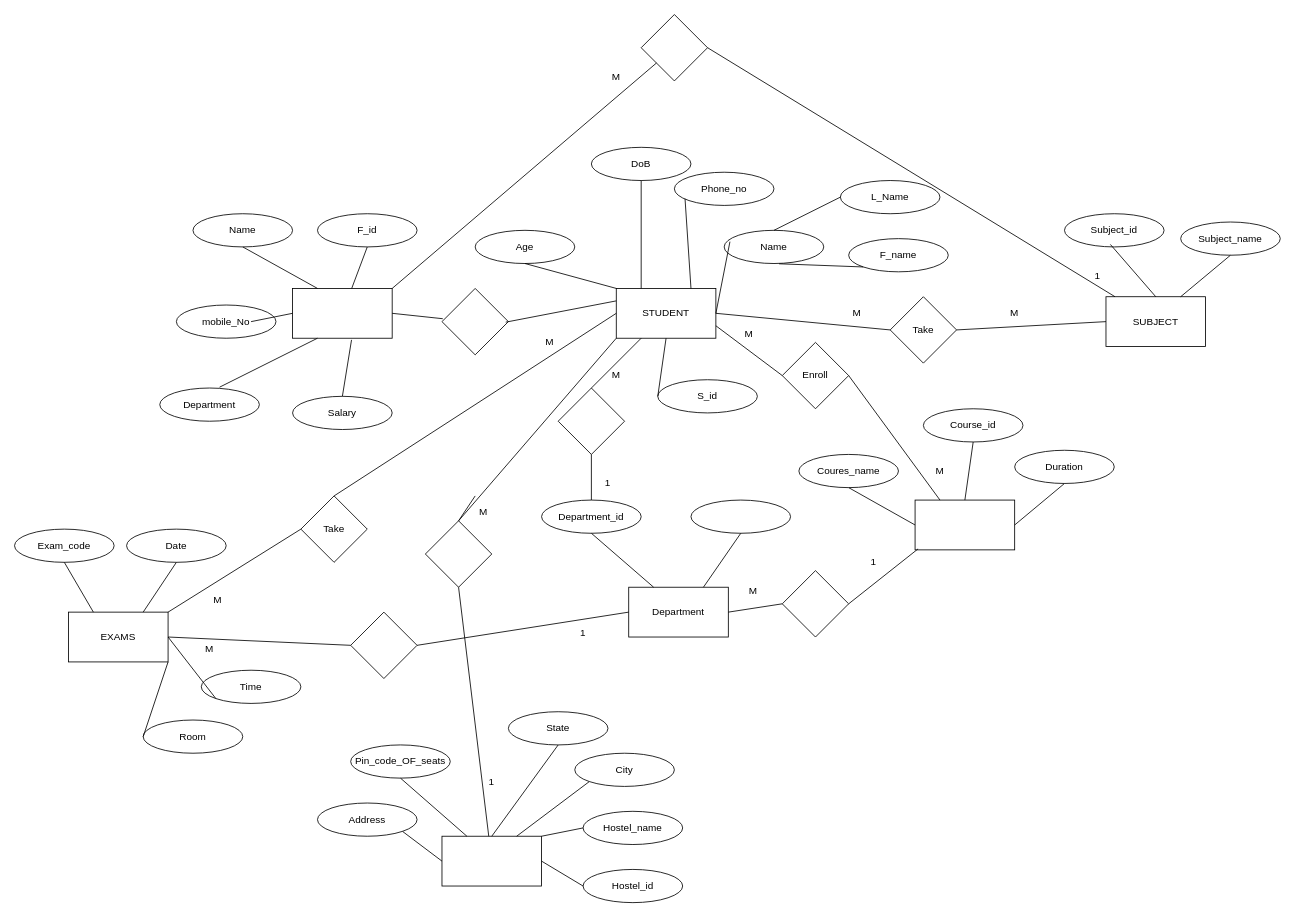
The diagram is 1295 pixels wide and 917 high, and some of its shapes have lost their labels. Here are the shapes that lost their labels. From the top down, the centre of each, then its label:
At pixel 674 47: "Taught".
At pixel 342 313: "FACULTY".
At pixel 474 321: "Teaches".
At pixel 591 420: "Belong".
At pixel 740 516: "D_name".
At pixel 964 524: "COURSE".
At pixel 458 553: "Live".
At pixel 815 603: "handled".
At pixel 383 645: "Conducted".
At pixel 491 860: "HOSTEL".
